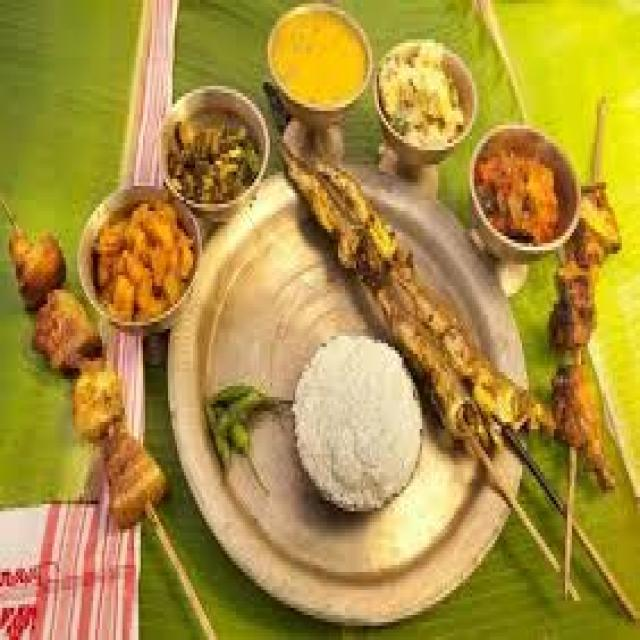dal: (273, 10, 366, 116)
papad: (289, 333, 430, 517)
pickle: (469, 129, 578, 247)
rice: (378, 42, 475, 150)
veg: (83, 195, 191, 347)
